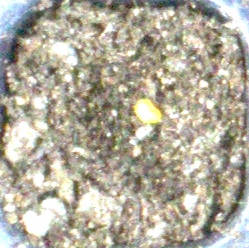pepper seed: (53, 35, 216, 161)
